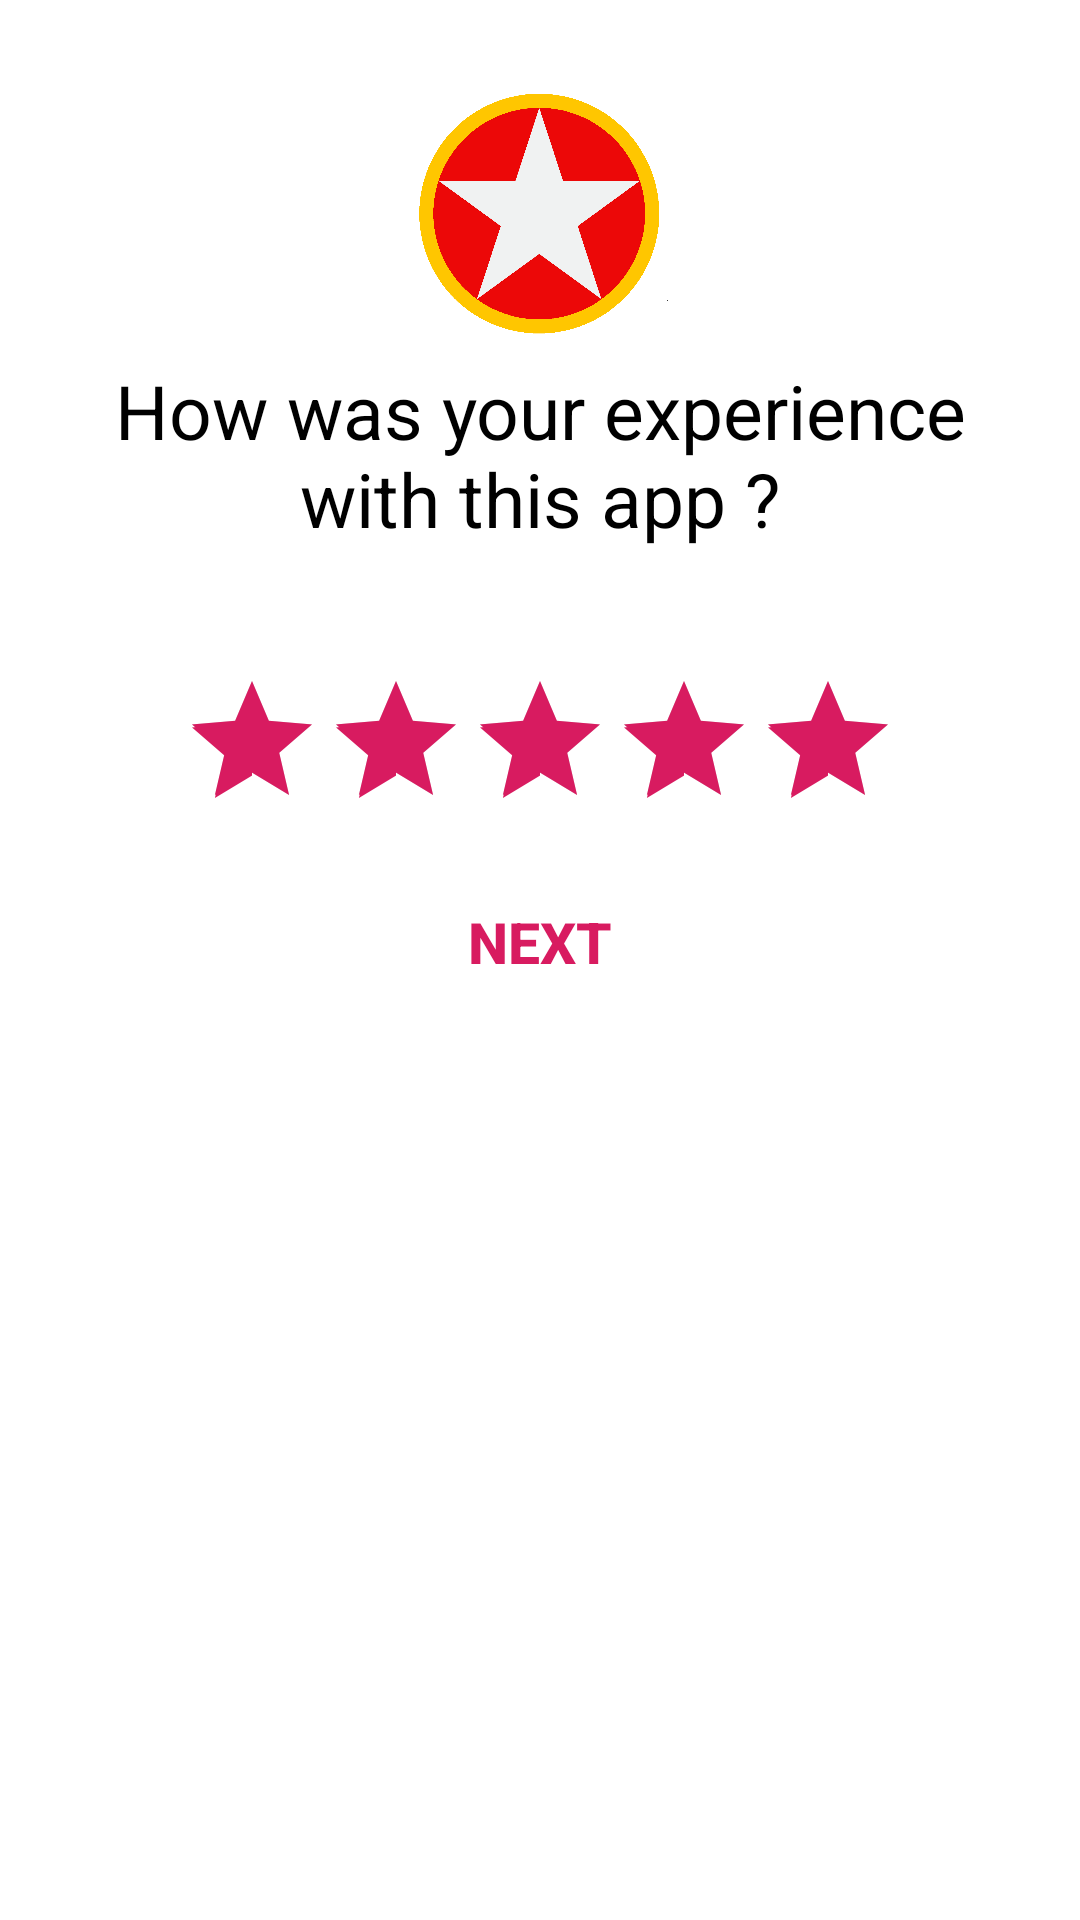

Named icons in this screenshot (1080px x 1920px) and their bounding boxes, [left=x1, top=y1, right=x2, bottom=y2]:
star: [left=419, top=94, right=668, bottom=334]
